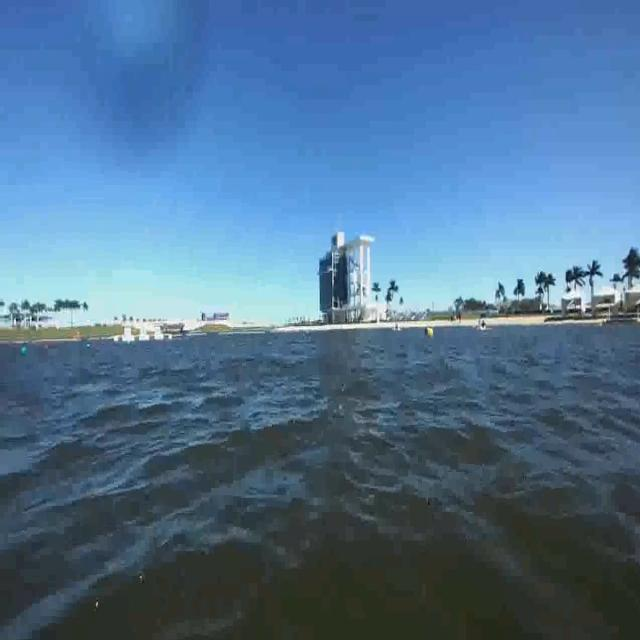yellow-buoy: (426, 325, 434, 338)
